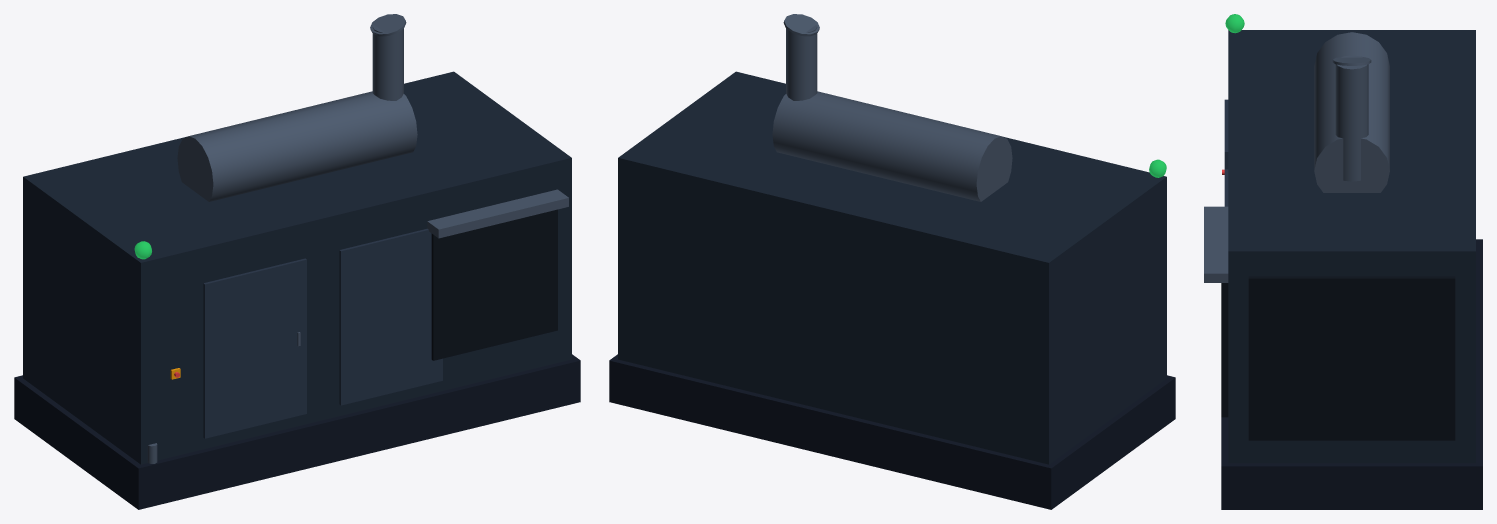
Rendered from generator.glb.
3 renders of one model, left to right at view 1: azimuth 30°, elevation 25°; view 2: azimuth 150°, elevation 25°; view 3: azimuth 270°, elevation 25°, orthographic. The views are drawn at different scales.
Visible parts, largest first — view 1: object 3, object 1, object 4, object 11, object 8, object 6, object 9, object 13; view 2: object 3, object 1, object 11, object 13; view 3: object 3, object 10, object 1, object 11, object 13, object 9, object 8, object 4, object 14.
Boxes of the visible parts, <box> form: object 3: <box>23,71,571,464</box>; object 1: <box>14,354,580,509</box>; object 4: <box>203,258,306,438</box>; object 11: <box>177,91,417,201</box>; object 8: <box>431,209,557,360</box>; object 6: <box>339,228,442,405</box>; object 9: <box>427,189,568,238</box>; object 13: <box>372,25,403,100</box>; object 3: <box>618,71,1166,464</box>; object 1: <box>609,354,1175,509</box>; object 11: <box>772,91,1012,201</box>; object 13: <box>786,25,817,100</box>; object 3: <box>1228,30,1475,463</box>; object 10: <box>1248,276,1455,440</box>; object 1: <box>1221,239,1482,509</box>; object 11: <box>1314,32,1389,192</box>; object 13: <box>1335,55,1368,181</box>; object 9: <box>1204,206,1228,282</box>; object 8: <box>1221,283,1228,417</box>; object 4: <box>1224,99,1228,169</box>; object 14: <box>1332,56,1371,65</box>.
Size of the model in its own units: 7.8 by 6.21 by 4.05.
